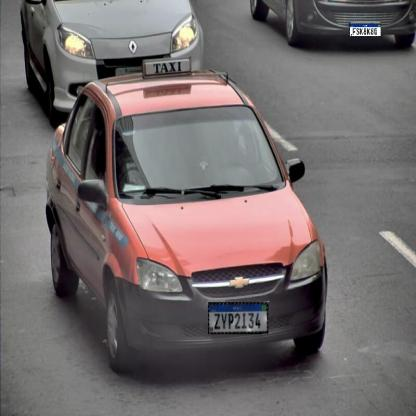PlacaM: (208, 302, 268, 334), (350, 23, 381, 36)
